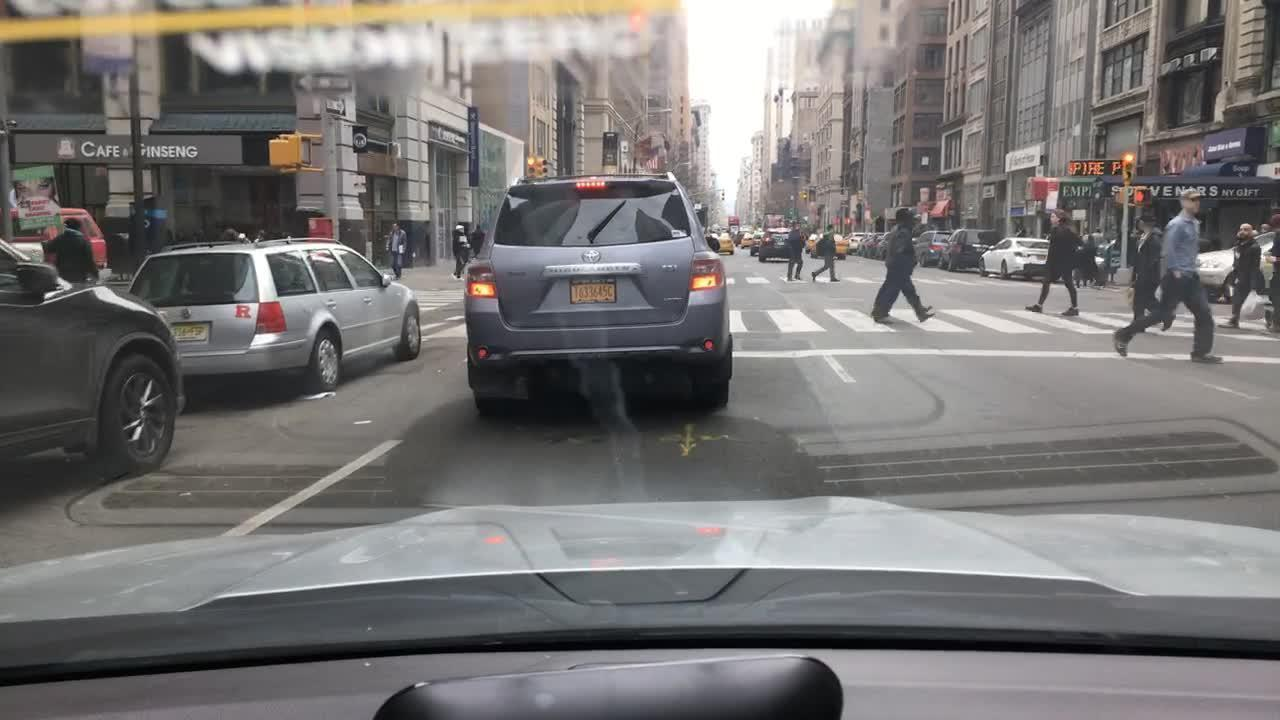Volkswagen: (175, 300, 204, 327)
